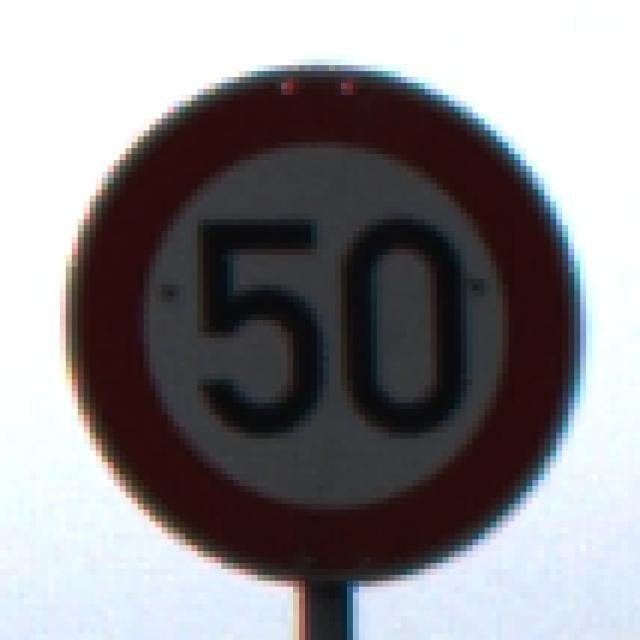speed limit 50: (62, 66, 584, 580)
